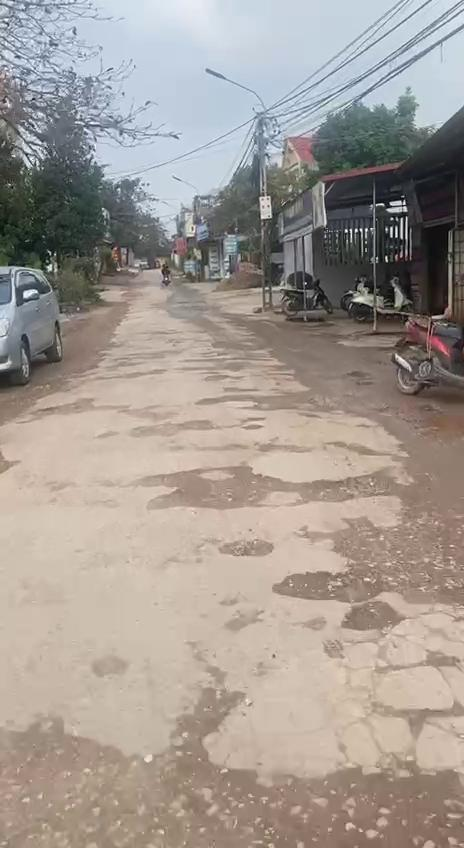pothole: (0, 719, 464, 848), (259, 512, 464, 606), (136, 465, 279, 518), (291, 459, 419, 507), (199, 388, 339, 417), (381, 400, 464, 448), (326, 596, 406, 638), (23, 394, 118, 422), (133, 416, 220, 440), (329, 434, 390, 459), (259, 441, 312, 456)
